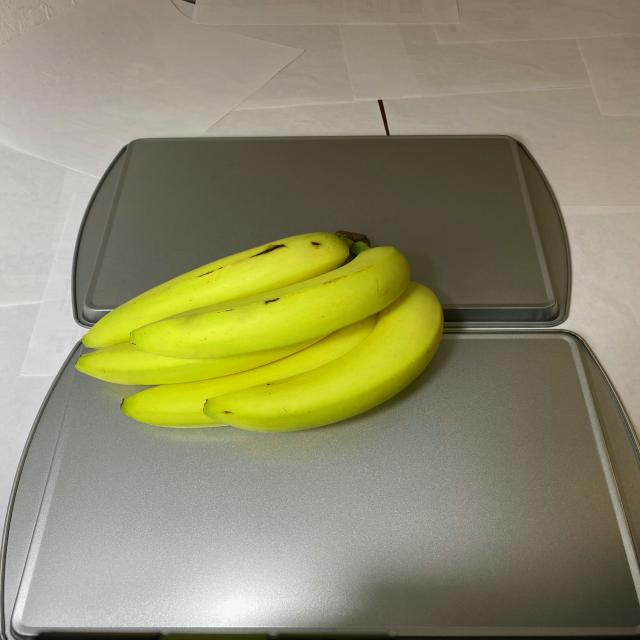banana: (72, 230, 446, 442)
